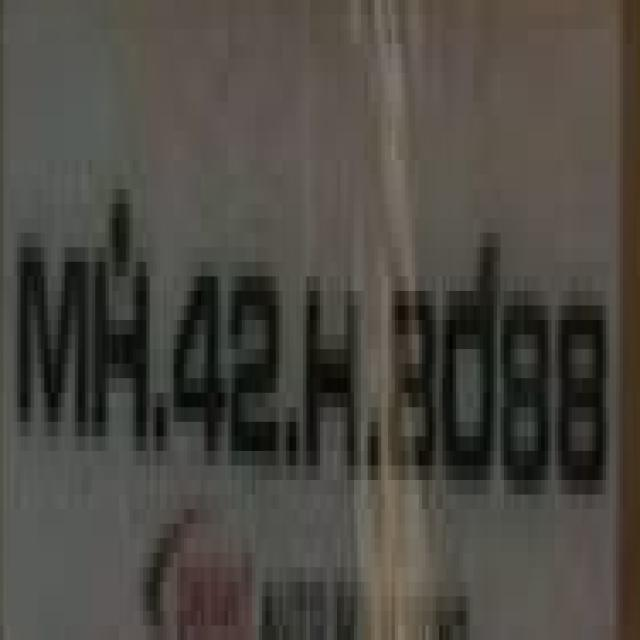plate: (31, 29, 636, 626)
